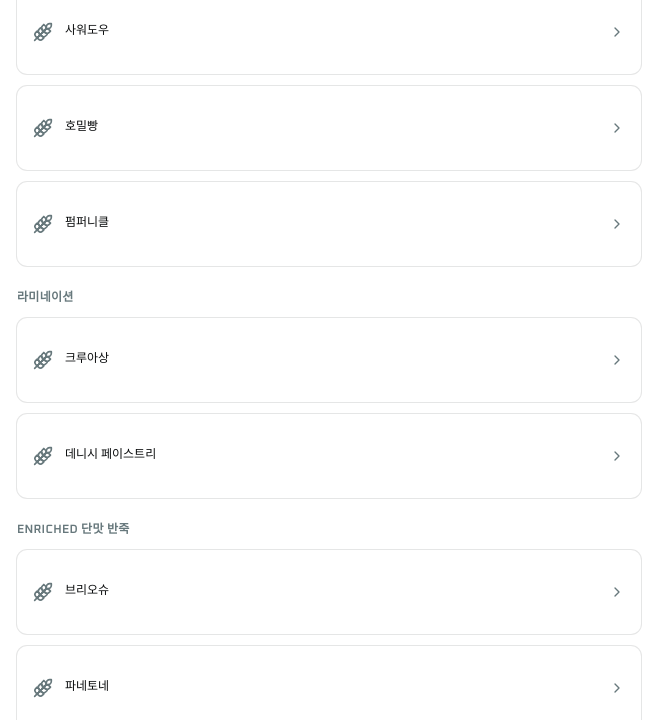
Test: BreadDoctor › Scenario 0-A: 크루아상 선택 → 라미네이션 증상이 표시되고 식빵 전용 증상은 안 보인다
The width and height of the screenshot is (659, 720).
(page scrolled)
Click the button "크루아상": click(87, 359) [17, 334, 641, 386]
(page scrolled)
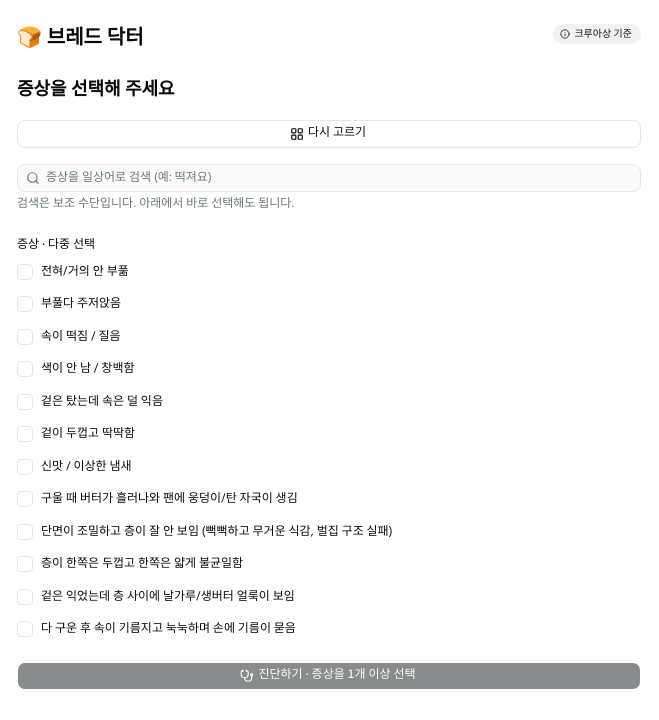
Expected: the text "크루아상 기준" is shown, [553, 24, 641, 44]
Expected: the 9th checkbox named "단면이 조밀하고 층이 잘 안 보임" is shown, [17, 524, 33, 540]
